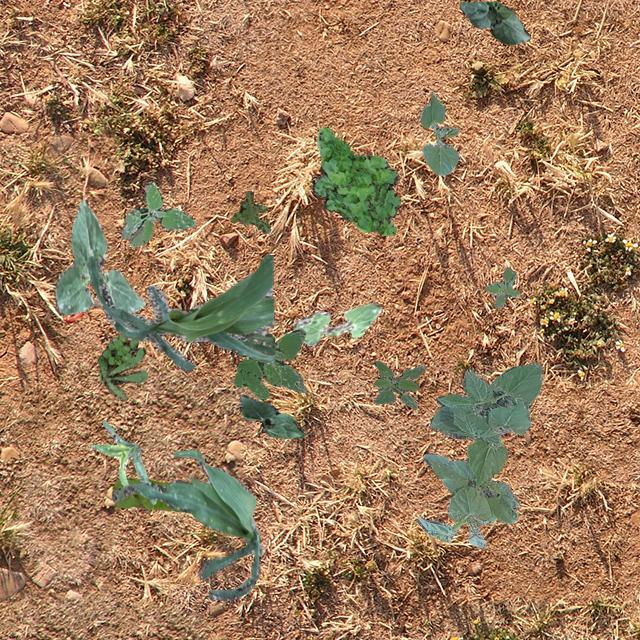crop: (416, 360, 542, 546), (111, 448, 262, 600), (86, 254, 274, 370), (54, 198, 144, 314), (90, 419, 154, 504), (292, 302, 380, 344), (418, 92, 458, 174), (458, 1, 530, 44), (238, 393, 304, 438), (111, 476, 181, 511)
weed: (312, 126, 399, 234), (232, 328, 306, 400), (120, 180, 194, 247), (96, 334, 146, 399), (372, 359, 424, 408), (230, 190, 270, 232), (484, 266, 518, 306)
